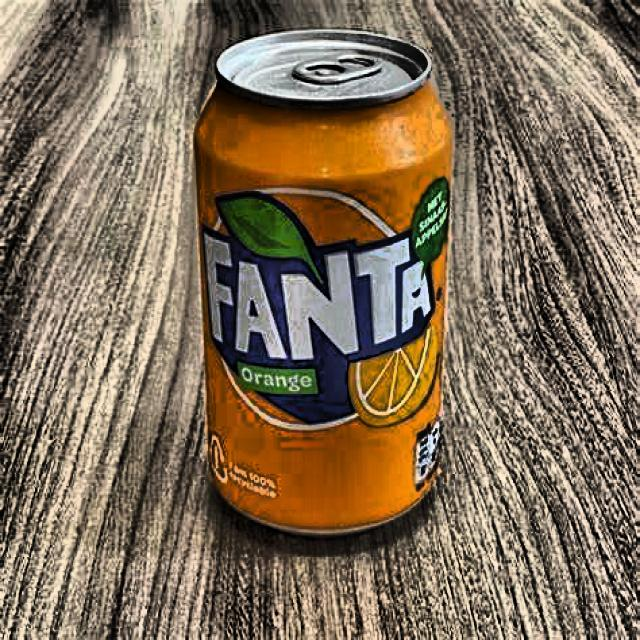Cans: (174, 7, 471, 553)
